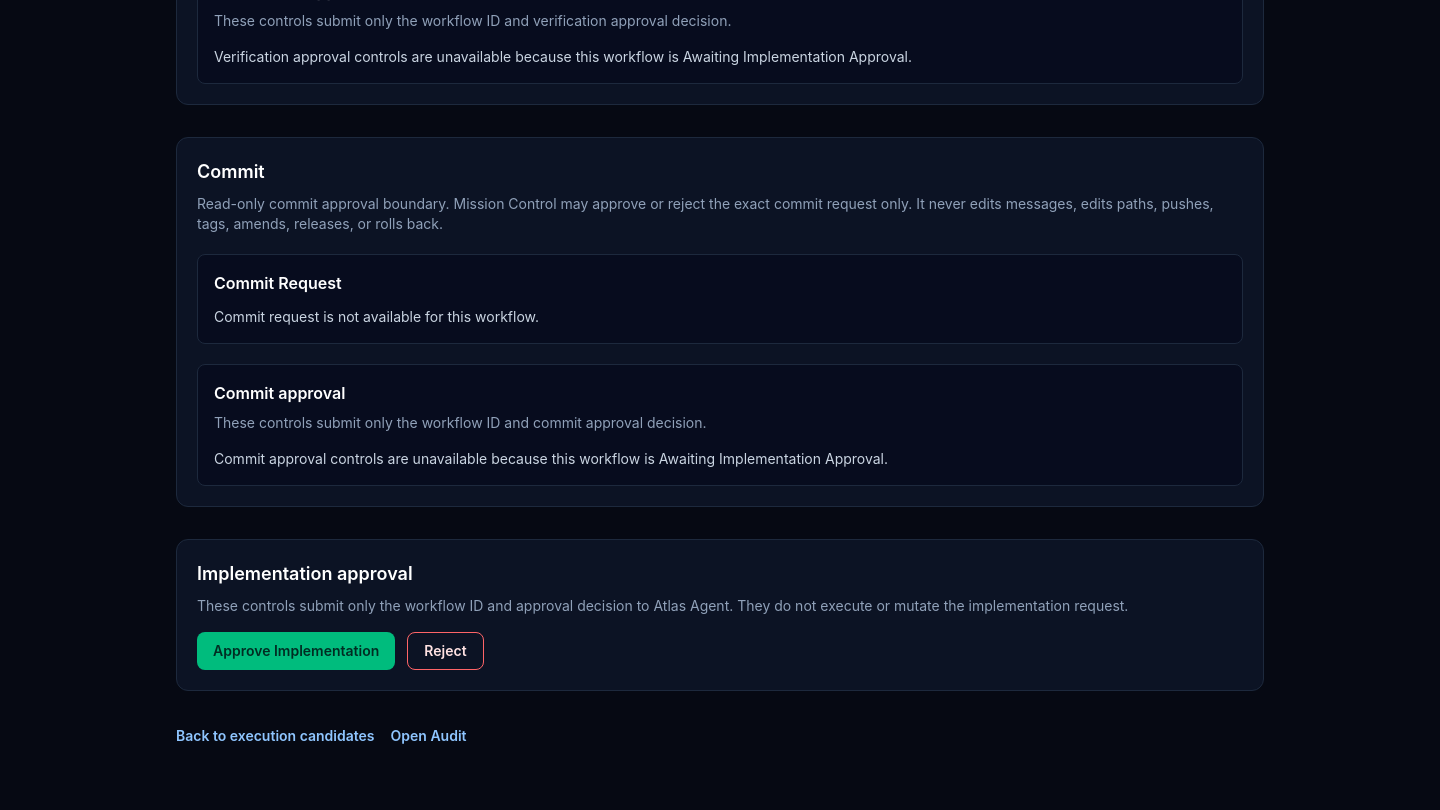
Test case: WorkflowPage › submits approve with only workflow id and decision
(page scrolled)
Click the button "Approve Implementation" at (296, 651), box [197,632,395,670]
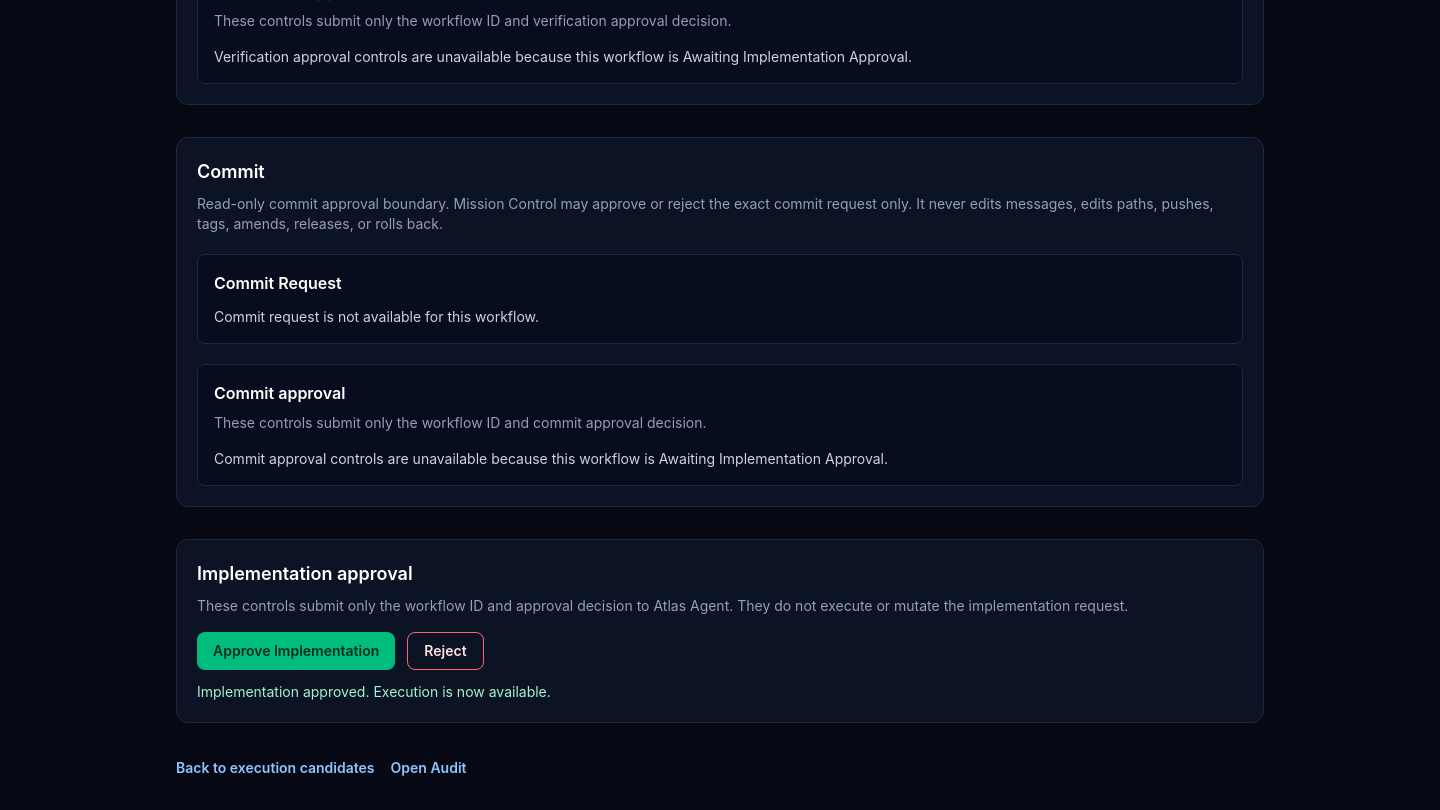
Expected: the text "Implementation approved. Execution is now available." is shown, [197,683,551,700]
